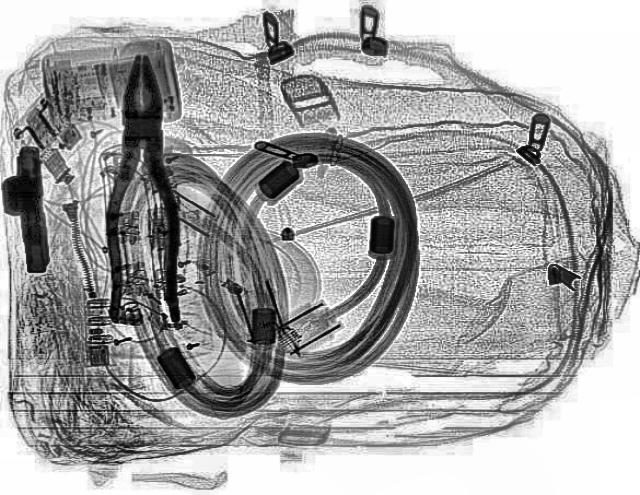Gun: (0, 142, 44, 274)
Pliers: (104, 54, 178, 324)
